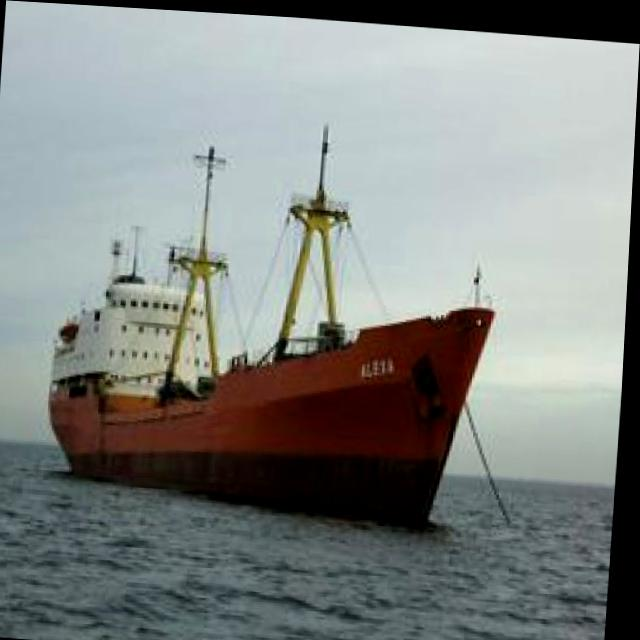ship2: (53, 123, 500, 516)
